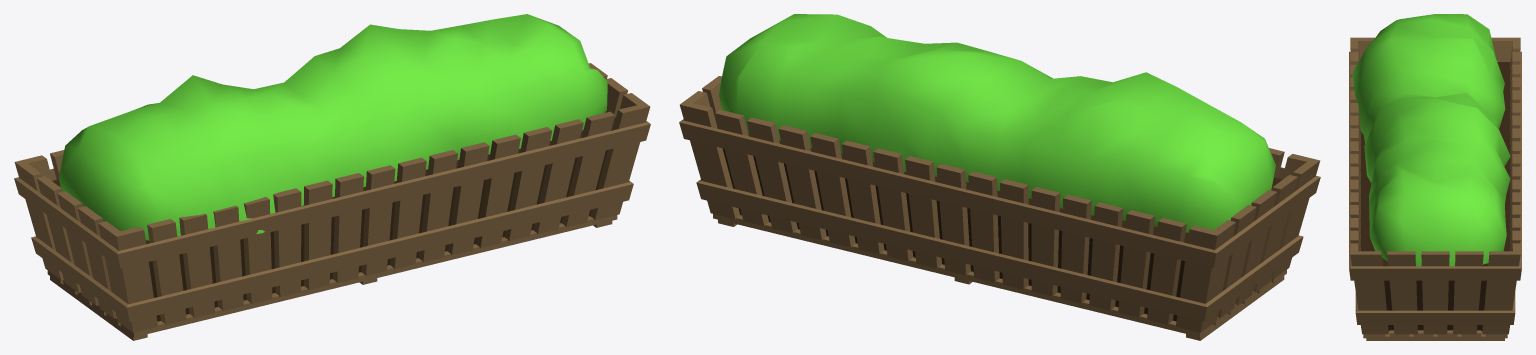
Rendered from Garden.fbx.
3 views of the same model, side by side, from view 1: azimuth 30°, elevation 25°; view 2: azimuth 150°, elevation 25°; view 3: azimuth 270°, elevation 25° (orthographic). The views are drawn at different scales.
Parts seen in each view (by area): view 1: Garden; view 2: Garden; view 3: Garden.
Part boxes in pixels (x1,y1,x2,y2): Garden: (14,14,650,340); Garden: (679,14,1320,340); Garden: (1349,14,1521,340).
Bounding box in the file's own units: 233 × 80.95 × 78.51.
